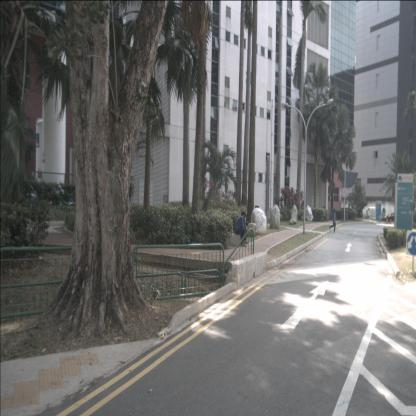human-pedestrian-adult: (234, 210, 247, 247), (237, 211, 249, 244), (329, 208, 336, 233)
vehicle-car: (364, 206, 386, 221), (384, 211, 402, 223)
